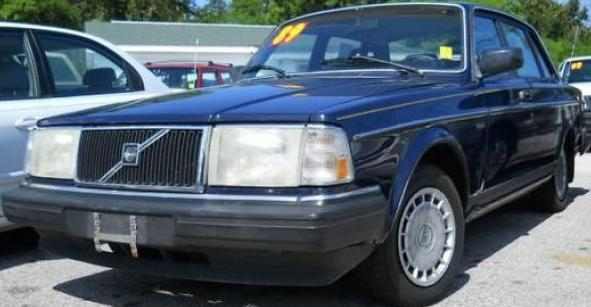front_view: (10, 96, 389, 272)
headlight: (195, 120, 358, 201)
side_glass: (468, 13, 558, 93)
